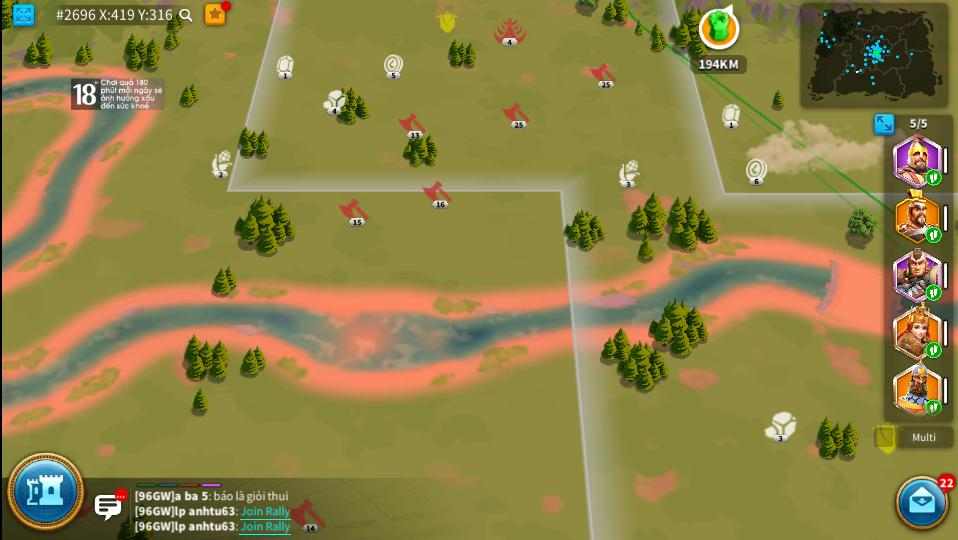gem-z-out: (275, 54, 296, 78), (721, 104, 741, 127)
march_marching: (925, 228, 942, 242), (926, 170, 940, 185), (927, 400, 941, 415), (926, 285, 940, 299), (928, 343, 940, 357)
